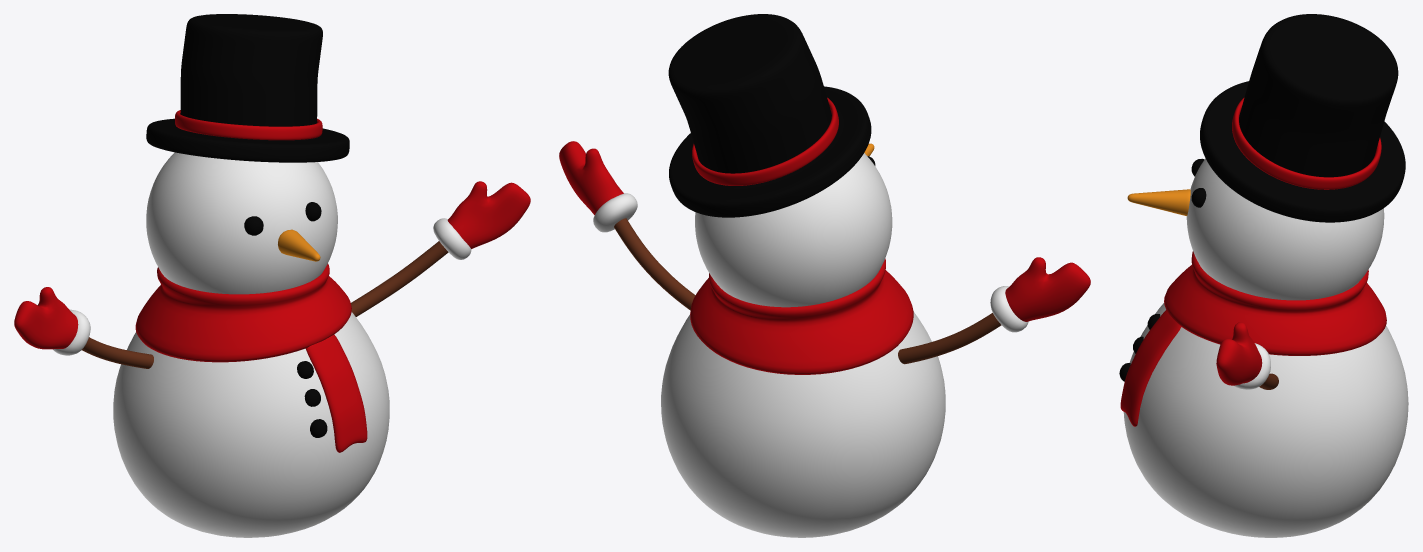
Rendered from Snowman.fbx.
The picture shows the model from 3 angles, left to right: view 1: azimuth 30°, elevation 25°; view 2: azimuth 150°, elevation 25°; view 3: azimuth 270°, elevation 25°; orthographic projection. The views are drawn at different scales.
Visible parts, largest first — view 1: Snowman 3d illustration, Cube.001, Circle.001, Circle, Cube.007, Plane, Vert, Circle.001_Piece, Cylinder, Cube.006, Cube.004; view 2: Snowman 3d illustration, Circle.001, Cube.001, Circle, Cube.007, Vert, Circle.001_Piece, Cylinder; view 3: Snowman 3d illustration, Circle.001, Cube.001, Circle, Plane, Circle.001_Piece, Cube.007, Cube.006, Cylinder, Cube.005, Cube.004.
Boxes of the visible parts, x1,y1,x2,y2 form: Snowman 3d illustration: (113, 312, 389, 537); Cube.001: (146, 152, 337, 294); Circle.001: (146, 14, 349, 162); Circle: (135, 264, 351, 362); Cube.007: (14, 181, 530, 349); Plane: (305, 334, 367, 452); Vert: (82, 241, 448, 368); Circle.001_Piece: (175, 110, 322, 140); Cylinder: (53, 218, 471, 355); Cube.006: (278, 229, 320, 261); Cube.004: (297, 361, 327, 437); Snowman 3d illustration: (661, 312, 945, 537); Circle.001: (668, 14, 871, 217); Cube.001: (695, 153, 892, 307); Circle: (690, 258, 913, 374); Cube.007: (559, 141, 1090, 321); Vert: (614, 218, 1001, 364); Circle.001_Piece: (692, 97, 838, 185); Cylinder: (593, 193, 1028, 332); Snowman 3d illustration: (1123, 303, 1408, 537); Circle.001: (1200, 14, 1405, 222); Cube.001: (1186, 158, 1384, 300); Circle: (1164, 251, 1386, 355); Plane: (1120, 310, 1181, 426); Circle.001_Piece: (1232, 97, 1381, 189); Cube.007: (1216, 322, 1262, 385); Cube.006: (1127, 189, 1190, 215); Cylinder: (1234, 343, 1270, 389); Cube.005: (1191, 158, 1206, 207); Cube.004: (1119, 314, 1160, 381).
Bounding box in the file's own units: 215 × 193 × 101.
